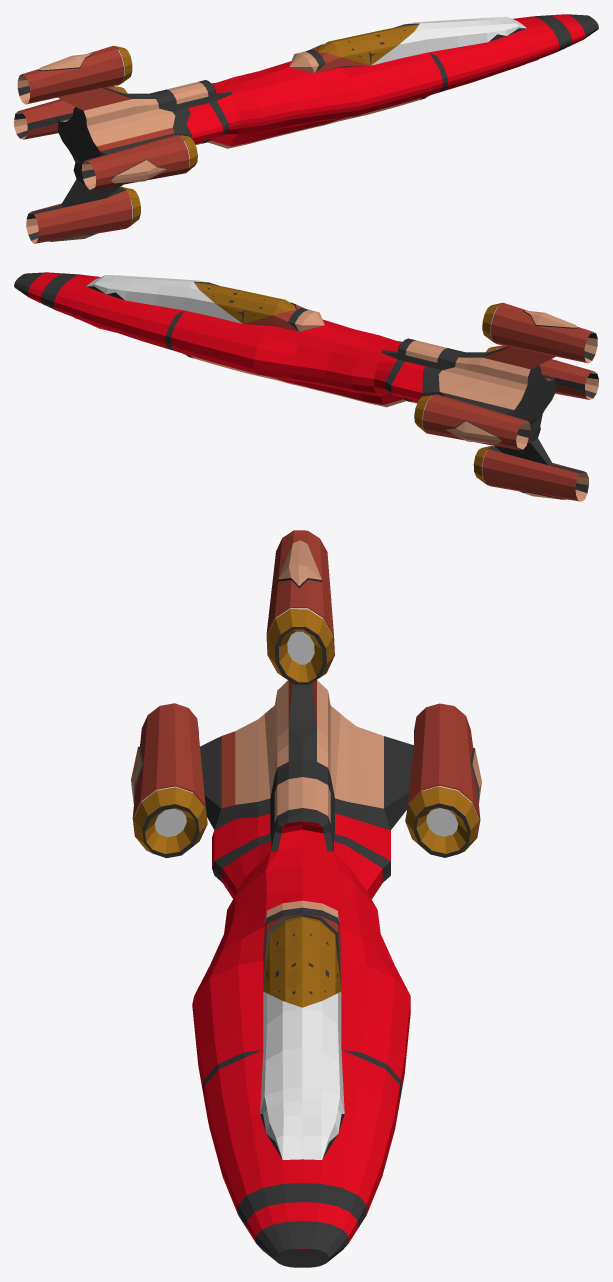
File: SpaceShipNoClip.fbx
3 renders of one model, top to bottom at view 1: azimuth 30°, elevation 25°; view 2: azimuth 150°, elevation 25°; view 3: azimuth 270°, elevation 25°, orthographic. The views are drawn at different scales.
Visible parts, largest first — view 1: NaN; view 2: NaN; view 3: NaN.
Part boxes in pixels (x1,y1,x2,y2): NaN: (14, 14, 598, 243); NaN: (14, 272, 598, 501); NaN: (131, 530, 481, 1267).
Bounding box in the file's own units: 471 × 144 × 126.
